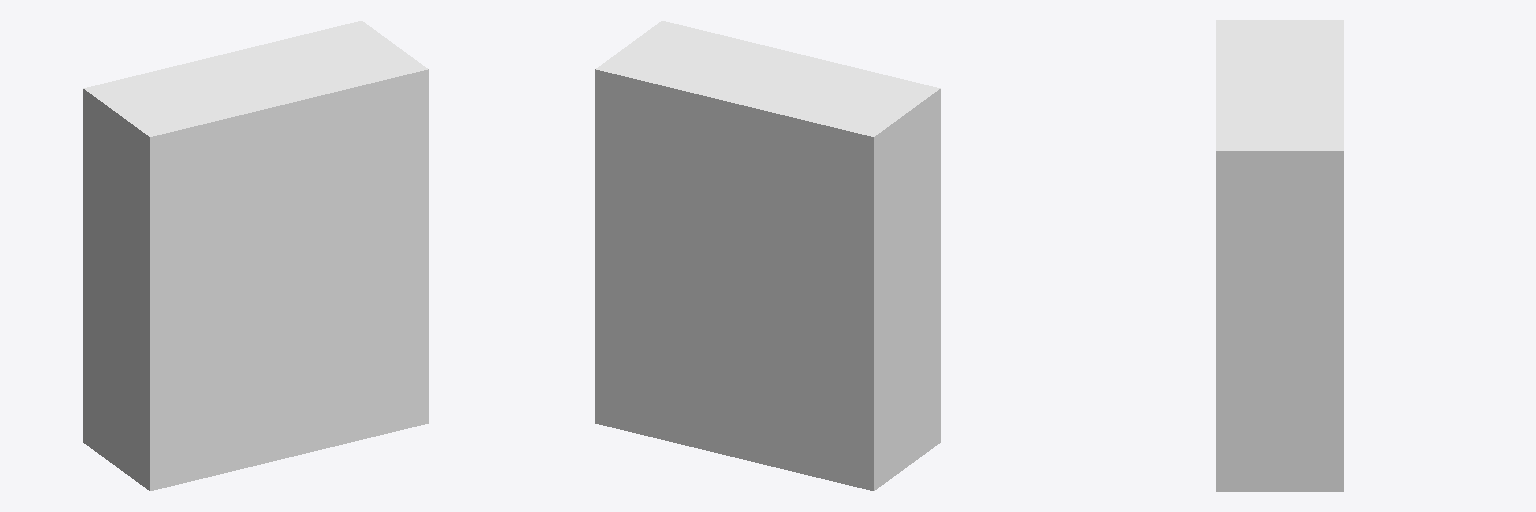
URDF robot description (box.urdf):
<?xml version="1.0" ?>
<robot name="box.urdf">
  <link name="baseLink">
    <contact>
      <lateral_friction value="1.0"/>
      <spinning_friction value="0.001"/>
      <rolling_friction value="0.001"/>
      <contact_cfm value="0.0"/>
      <contact_erp value="1.0"/>
    </contact>
    <inertial>
      <origin rpy="0 0 0" xyz="0.0 0 0.0"/>
       <mass value=".001"/>
       <inertia ixx="1" ixy="0" ixz="0" iyy="1" iyz="0" izz="1"/>
    </inertial>
    <visual>
      <origin rpy="0 0 0" xyz="0 0 0"/>
      <geometry>
        <box size="0.135 0.056 0.164"/>
      </geometry>
       <material name="white">
        <color rgba="1 1 1 1"/>
      </material>
    </visual>
    <collision>
      <origin rpy="0 0 0" xyz="0 0 0"/>
      <geometry>
	<box size="0.135 0.056 0.164"/>
      </geometry>
    </collision>
  </link>
</robot>

--- What the picture shows (computed from the rendered views, not written in the file) ---
The picture shows the robot from 3 angles, left to right: view 1: azimuth 30°, elevation 25°; view 2: azimuth 150°, elevation 25°; view 3: azimuth 270°, elevation 25°; orthographic projection.
Robot: box.urdf — 1 links, 0 joints (none); root link baseLink; default pose: all joints at 0.
Links seen in each view (by area): view 1: baseLink; view 2: baseLink; view 3: baseLink.
Boxes of the visible links, x1,y1,x2,y2 form: baseLink: [83, 21, 428, 490]; baseLink: [595, 21, 940, 490]; baseLink: [1216, 20, 1343, 491].
Size in the robot's own frame: 0.135 by 0.056 by 0.164 metres.
Geometry: primitives only (box / cylinder / sphere), no mesh files.